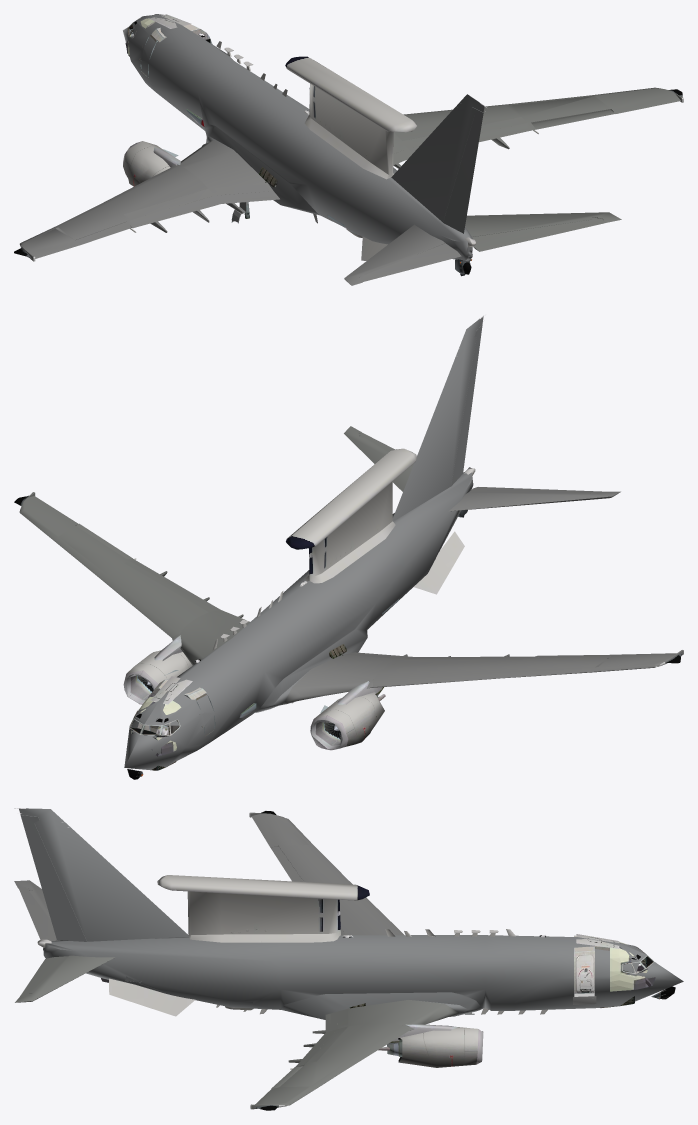
The model's file is e7-awacs.lod0.glb.
3 renders of one model, top to bottom at view 1: azimuth 30°, elevation 25°; view 2: azimuth 150°, elevation 25°; view 3: azimuth 270°, elevation 25°, orthographic. The views are drawn at different scales.
Parts seen in each view (by area): view 1: Object_2, Object_3, Object_18, Object_12; view 2: Object_2, Object_3, Object_18, Object_12; view 3: Object_2, Object_3, Object_18, Object_12.
Boxes of the visible parts, x1,y1,x2,y2 form: Object_2: (19, 14, 683, 285); Object_3: (14, 14, 682, 276); Object_18: (123, 141, 180, 186); Object_12: (125, 14, 360, 235); Object_2: (19, 316, 683, 770); Object_3: (14, 314, 682, 779); Object_18: (123, 635, 385, 750); Object_12: (129, 599, 398, 770); Object_2: (14, 808, 683, 1109); Object_3: (14, 808, 675, 1110); Object_18: (378, 1024, 483, 1067); Object_12: (349, 935, 655, 1008).
Bounding box in the file's own units: 35.65 × 12.1 × 33.69.
4 materials, 3 textured.
